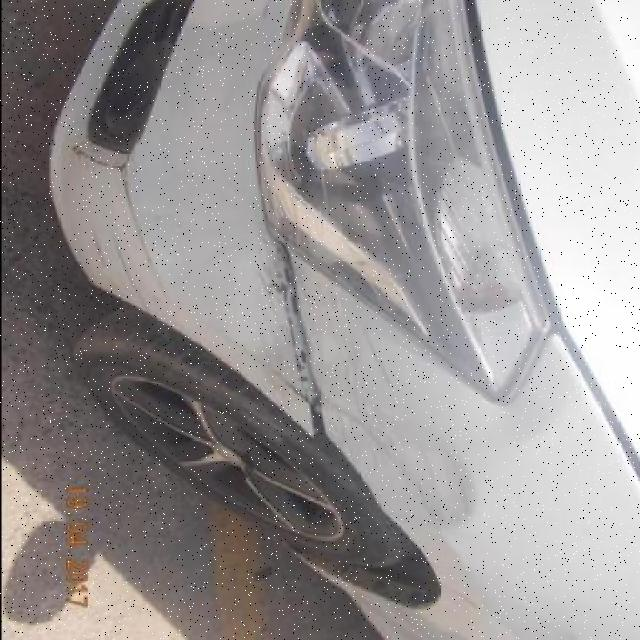damage: (260, 240, 392, 466), (68, 142, 168, 301), (363, 448, 495, 540), (79, 180, 121, 297), (109, 232, 150, 314)
